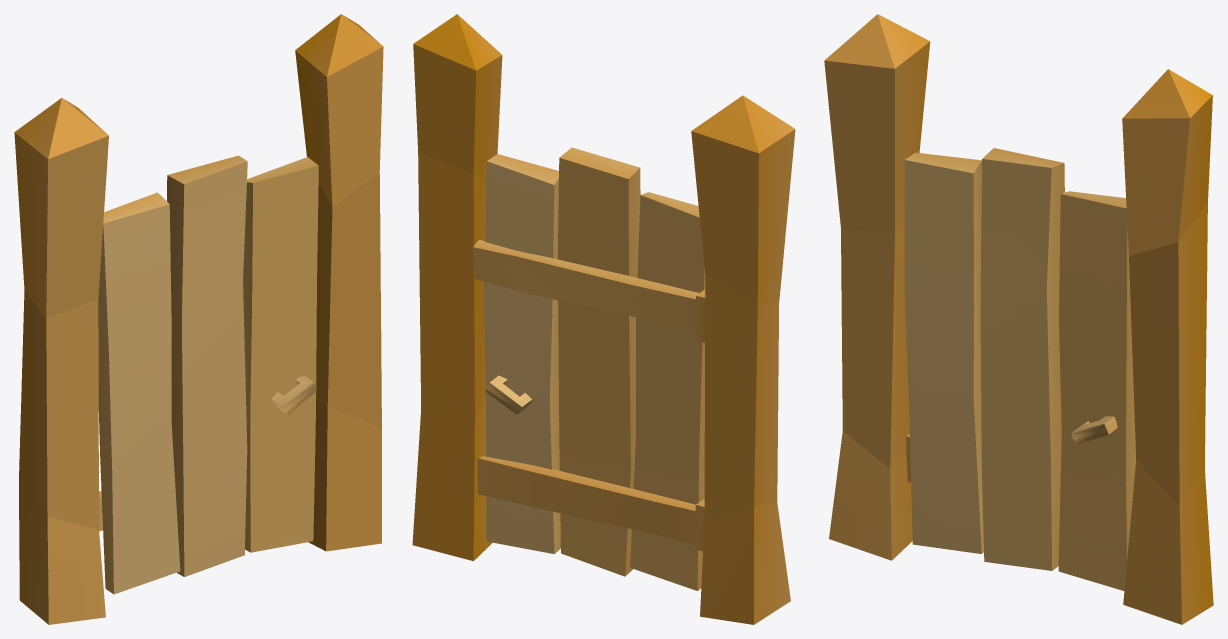
The model's file is PintuKayu.fbx.
The picture shows the model from 3 angles, left to right: view 1: azimuth 30°, elevation 25°; view 2: azimuth 150°, elevation 25°; view 3: azimuth 330°, elevation 25°; orthographic projection. The views are drawn at different scales.
Parts seen in each view (by area): view 1: Fence_door.001, Fence_enter.001; view 2: Fence_door.001, Fence_enter.001; view 3: Fence_door.001, Fence_enter.001.
Boxes of the visible parts, left/top/right/bottom form: Fence_door.001: left=98, top=155, right=318, bottom=594; Fence_enter.001: left=14, top=14, right=383, bottom=624; Fence_door.001: left=473, top=147, right=705, bottom=590; Fence_enter.001: left=412, top=14, right=795, bottom=624; Fence_door.001: left=904, top=148, right=1135, bottom=590; Fence_enter.001: left=824, top=14, right=1213, bottom=624.
Size of the model in its own units: 103 by 150 by 18.81.
